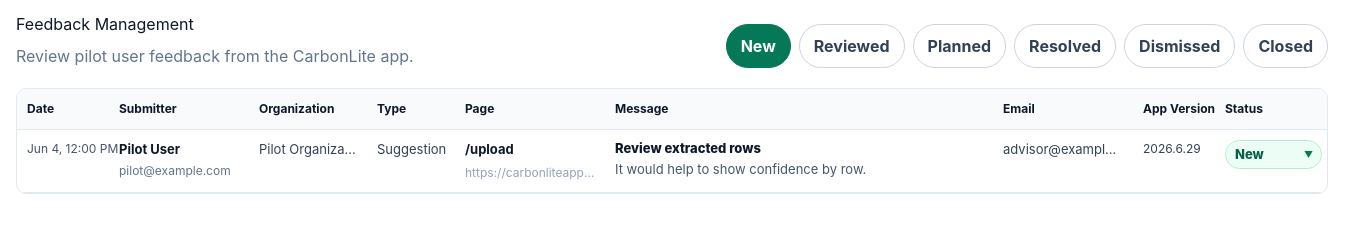
FeedbackManagementPage › updates feedback status and removes the row from the current filter
Expected: the text "Review extracted rows" is shown, [615, 140, 761, 156]
Select "Reviewed" in the dropdown named "Status for feedback feedback-1" at {"x": 1274, "y": 154}, box [1226, 141, 1321, 168]
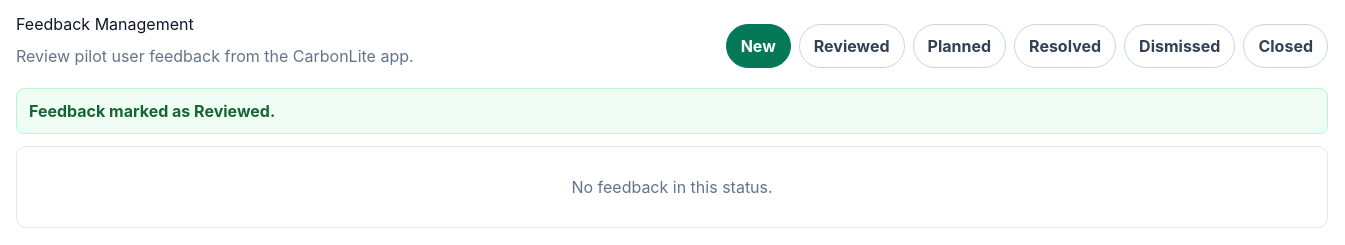
Now the text "Feedback marked as Reviewed." is shown, box [16, 88, 1328, 134]
Now the text "Review extracted rows" is gone
Now the text "No feedback in this status." is shown, box [571, 177, 773, 197]
